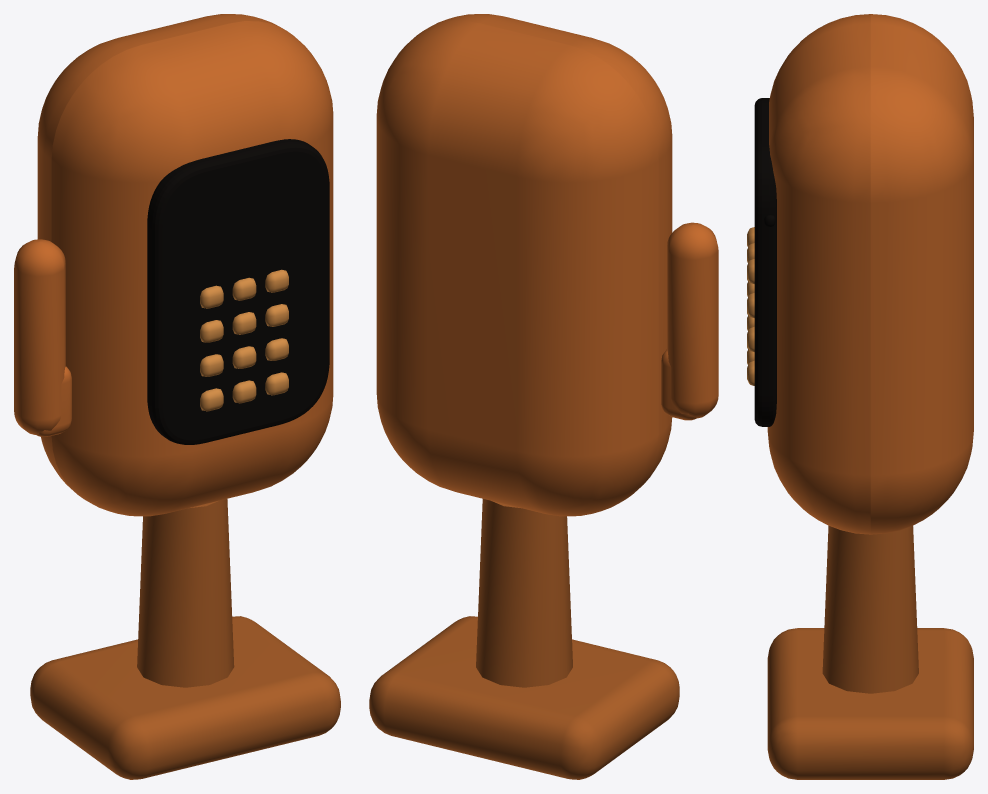
The model's file is payphone.glb.
3 views of the same model, side by side, from view 1: azimuth 30°, elevation 25°; view 2: azimuth 150°, elevation 25°; view 3: azimuth 270°, elevation 25° (orthographic).
Parts seen in each view (by area): view 1: payphone; view 2: payphone; view 3: payphone.
Part boxes in pixels (bbox=[...]): payphone: bbox=[14, 14, 340, 779]; payphone: bbox=[369, 14, 718, 779]; payphone: bbox=[747, 14, 973, 779].
Bounding box in the file's own units: 0.9566 × 2.03 × 0.605.
